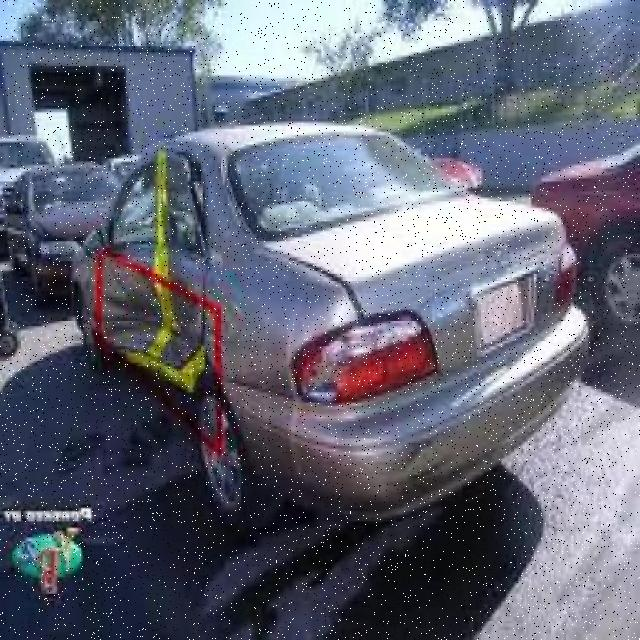damage: (72, 152, 224, 391)
